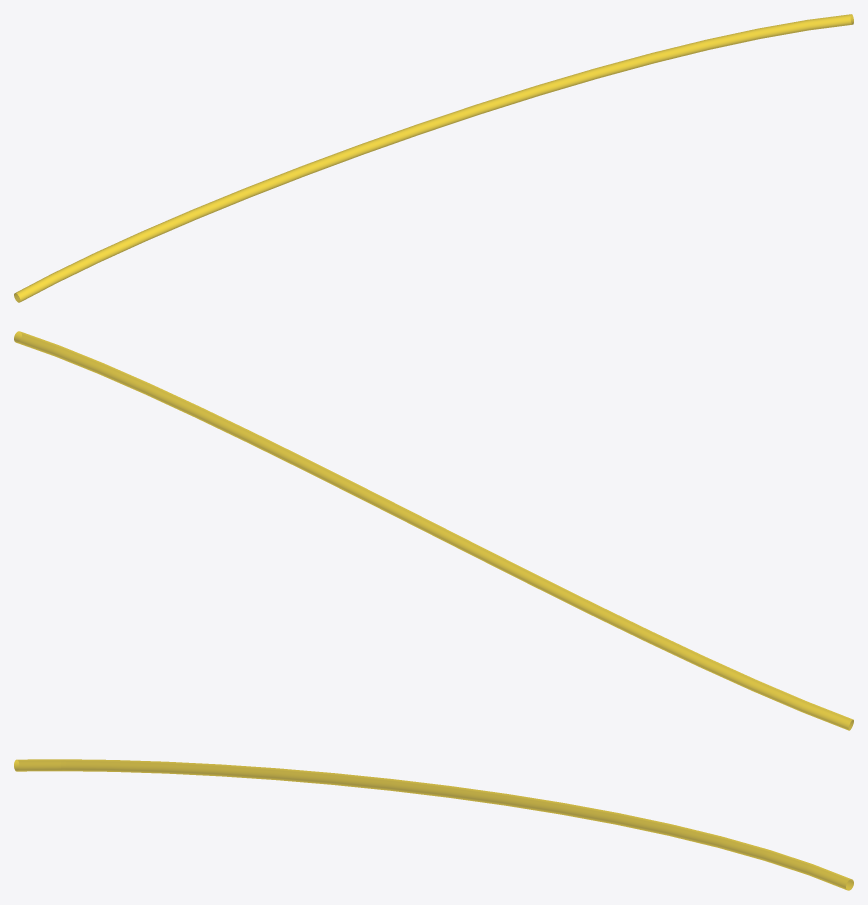
Rendered from Event_75125125_track_93.fbx.
The picture shows the model from 3 angles, top to bottom: view 1: azimuth 30°, elevation 25°; view 2: azimuth 150°, elevation 25°; view 3: azimuth 330°, elevation 25°; orthographic projection. The views are drawn at different scales.
Visible parts, largest first — view 1: Model; view 2: Model; view 3: Model.
Part boxes in pixels (box(x1,y1,x2,y2)): Model: box(14, 14, 853, 302); Model: box(14, 331, 853, 730); Model: box(14, 759, 853, 890).
Size of the model in its own units: 3.41 by 0.5348 by 0.4085.
